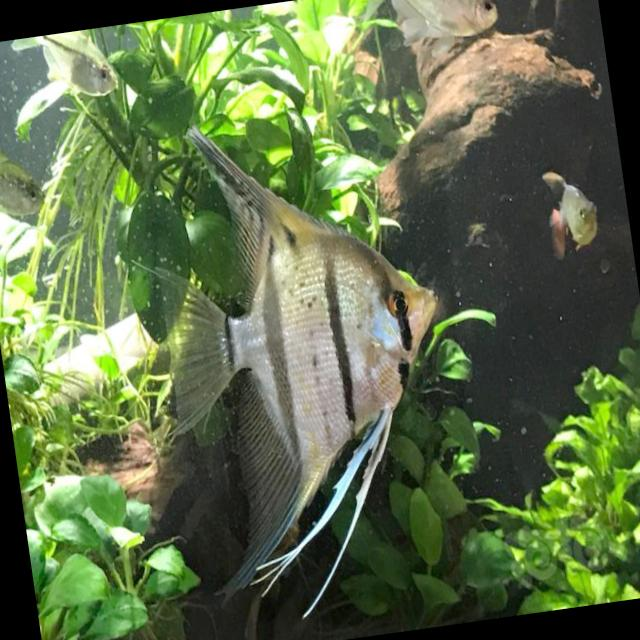AngelFish: (132, 97, 478, 608)
